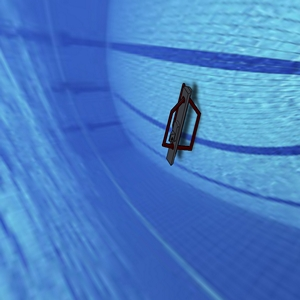submarine: (139, 80, 230, 161)
